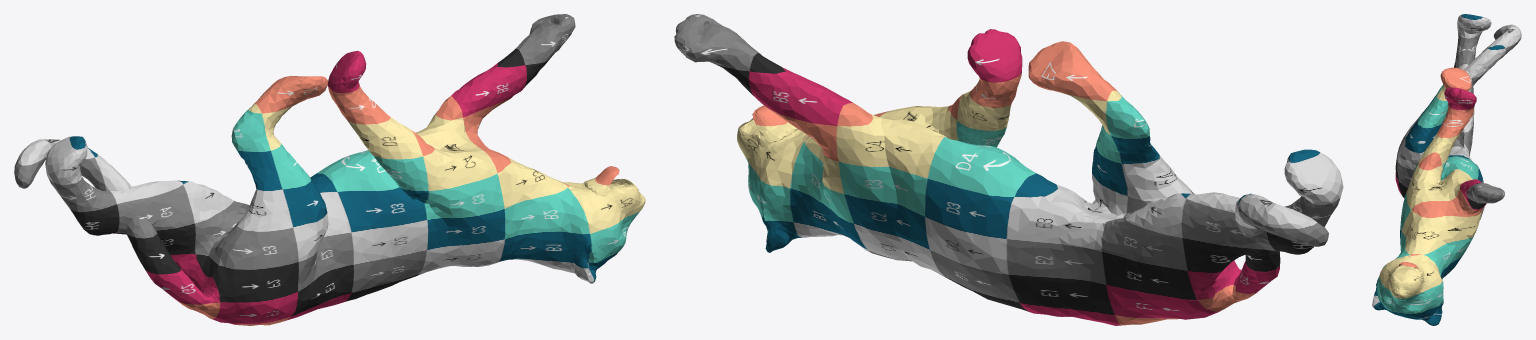
Rendered from cougar_03.obj.
3 renders of one model, left to right at view 1: azimuth 30°, elevation 25°; view 2: azimuth 150°, elevation 25°; view 3: azimuth 270°, elevation 25°, orthographic. The views are drawn at different scales.
Visible parts, largest first — view 1: cougar_03_export; view 2: cougar_03_export; view 3: cougar_03_export.
Boxes of the visible parts, x1,y1,x2,y2 form: cougar_03_export: (14,14,645,325); cougar_03_export: (674,14,1343,325); cougar_03_export: (1372,14,1521,325).
Bounding box in the file's own units: 1.19 × 0.4973 × 0.3967.
